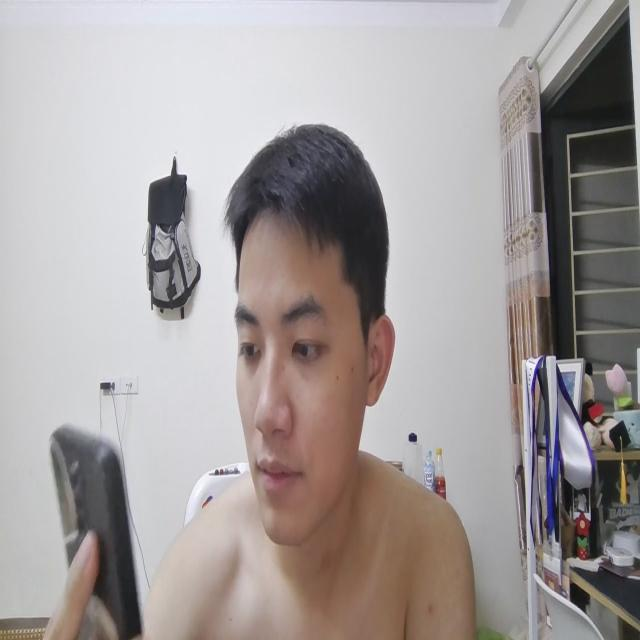phone: (51, 406, 143, 640)
student: (154, 113, 470, 640)
